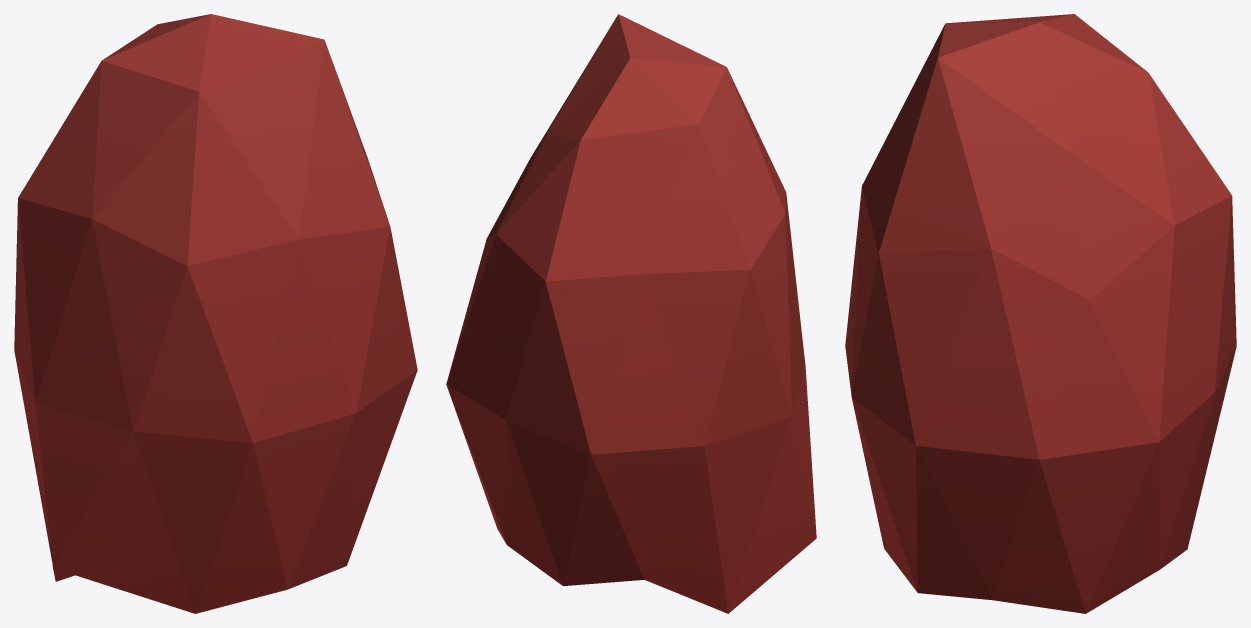
Rendered from Bush_4_gradient_red_vc.fbx.
The picture shows the model from 3 angles, left to right: view 1: azimuth 30°, elevation 25°; view 2: azimuth 150°, elevation 25°; view 3: azimuth 270°, elevation 25°; orthographic projection. The views are drawn at different scales.
Visible parts, largest first — view 1: Bush_4_gradient_red_vc; view 2: Bush_4_gradient_red_vc; view 3: Bush_4_gradient_red_vc.
Part boxes in pixels (bbox=[...]): Bush_4_gradient_red_vc: bbox=[14, 14, 417, 613]; Bush_4_gradient_red_vc: bbox=[446, 14, 816, 613]; Bush_4_gradient_red_vc: bbox=[845, 14, 1236, 613].
Size of the model in its own units: 39.09 by 58.1 by 36.72.
